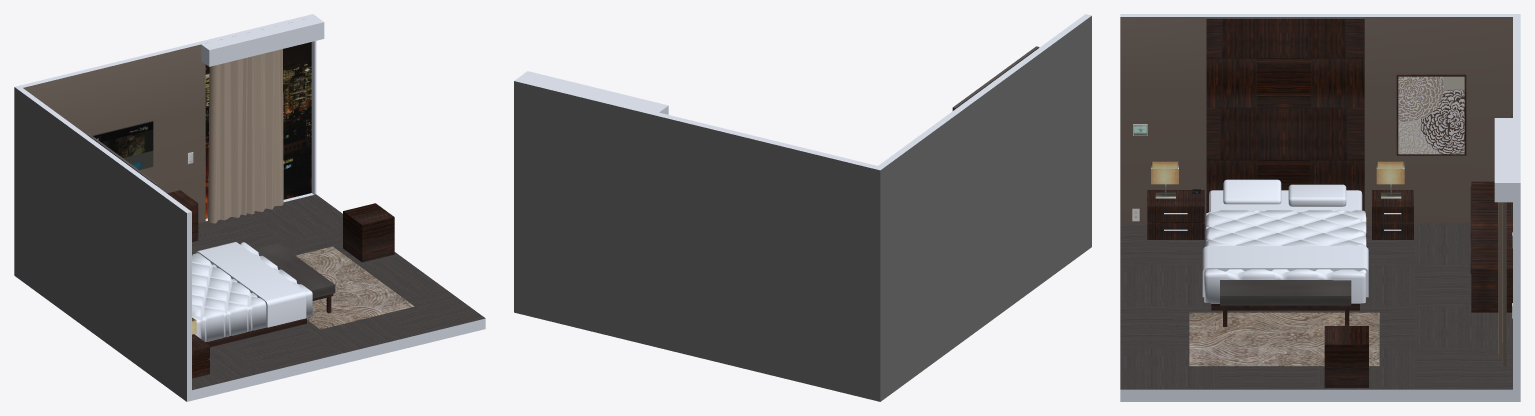
File: RoomModel.FBX
3 renders of one model, left to right at view 1: azimuth 30°, elevation 25°; view 2: azimuth 150°, elevation 25°; view 3: azimuth 270°, elevation 25°, orthographic. The views are drawn at different scales.
Parts seen in each view (by area): view 1: Box001, Object002, Plane001, Box044, Box021, Object001, Box014, Box019, Box011, Box010, Box006, Box020 (+1 smaller); view 2: Box001, Box014; view 3: Box001, Object002, Box012, Box021, Box044, Box013, Box008, Object001, Box010, Box019, Box006, Box043 (+8 smaller).
Boxes of the visible parts, bbox=[...] form: Box001: bbox=[14, 14, 485, 401]; Object002: bbox=[192, 194, 484, 389]; Plane001: bbox=[208, 49, 283, 223]; Box044: bbox=[192, 242, 312, 341]; Box021: bbox=[295, 246, 414, 329]; Object001: bbox=[196, 242, 306, 327]; Box014: bbox=[201, 16, 324, 66]; Box019: bbox=[343, 203, 394, 262]; Box011: bbox=[92, 120, 153, 169]; Box010: bbox=[255, 243, 335, 317]; Box006: bbox=[192, 334, 209, 378]; Box020: bbox=[205, 318, 306, 347]; Box001: bbox=[514, 14, 1091, 401]; Box014: bbox=[518, 71, 668, 114]; Box001: bbox=[1120, 14, 1520, 401]; Object002: bbox=[1120, 223, 1512, 389]; Box012: bbox=[1206, 17, 1364, 212]; Box021: bbox=[1189, 312, 1379, 366]; Box044: bbox=[1204, 210, 1366, 303]; Box013: bbox=[1396, 74, 1466, 155]; Box008: bbox=[1471, 181, 1512, 312]; Object001: bbox=[1202, 246, 1368, 297]; Box010: bbox=[1220, 280, 1351, 326]; Box019: bbox=[1324, 326, 1368, 387]; Box006: bbox=[1147, 190, 1204, 239]; Box043: bbox=[1372, 190, 1413, 239].
Bounding box in the file's own units: 0.9999 × 0.6039 × 0.9999.
Materials: 2 (1 with a texture image).
